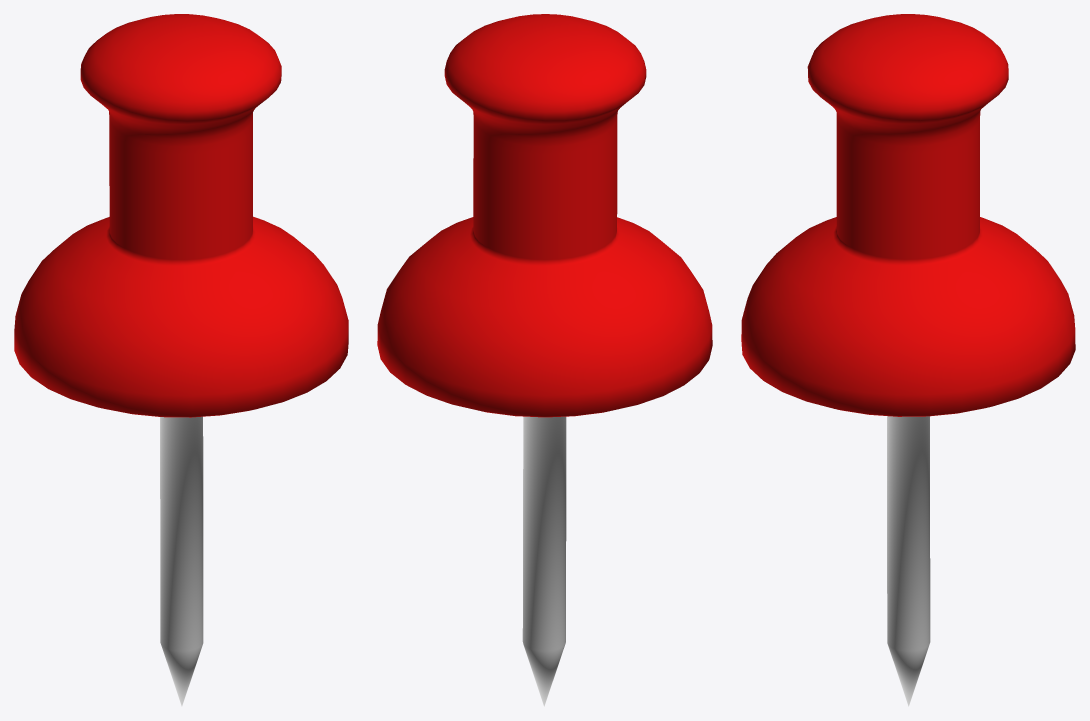
Rendered from pin_red.gltf.
3 renders of one model, left to right at view 1: azimuth 30°, elevation 25°; view 2: azimuth 150°, elevation 25°; view 3: azimuth 270°, elevation 25°, orthographic.
Parts seen in each view (by area): view 1: Circle.002_Circle.001; view 2: Circle.002_Circle.001; view 3: Circle.002_Circle.001.
Boxes of the visible parts, x1,y1,x2,y2 form: Circle.002_Circle.001: [14, 14, 348, 706]; Circle.002_Circle.001: [377, 14, 712, 706]; Circle.002_Circle.001: [741, 14, 1075, 706].
Size of the model in its own units: 0.7826 by 1.74 by 0.7826.
